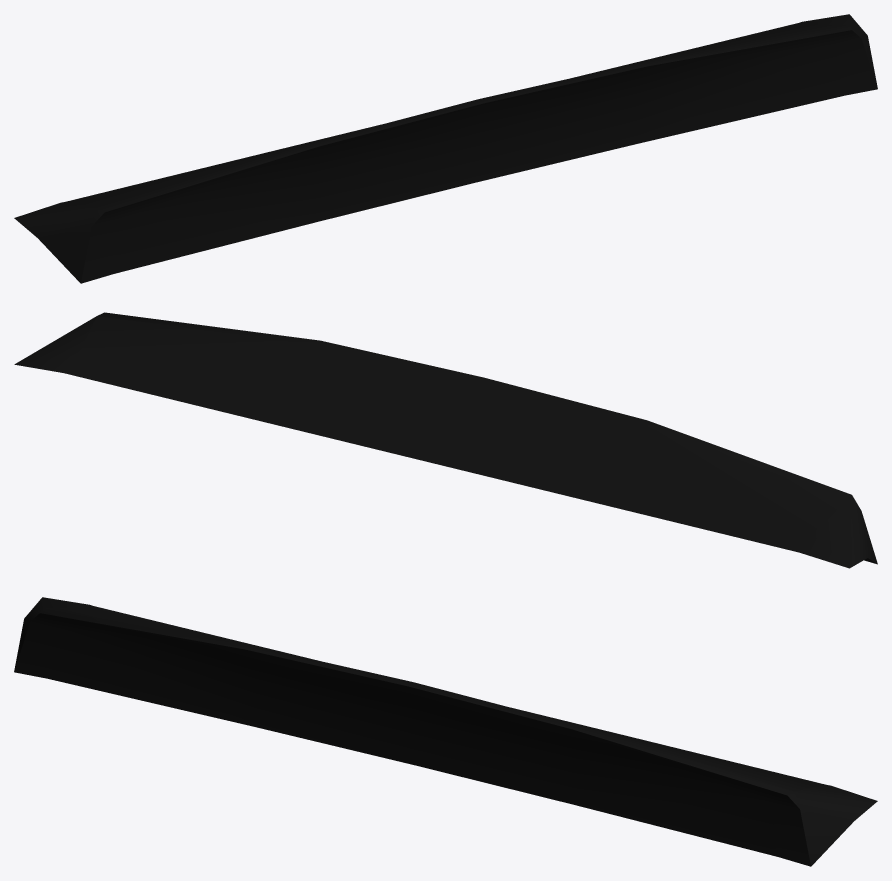
The model's file is GTO_Spoiler04.fbx.
The picture shows the model from 3 angles, top to bottom: view 1: azimuth 30°, elevation 25°; view 2: azimuth 150°, elevation 25°; view 3: azimuth 330°, elevation 25°; orthographic projection.
Visible parts, largest first — view 1: Empty_Mesh; view 2: Empty_Mesh; view 3: Empty_Mesh.
Part boxes in pixels (bbox=[...]): Empty_Mesh: bbox=[14, 14, 877, 283]; Empty_Mesh: bbox=[14, 312, 877, 568]; Empty_Mesh: bbox=[14, 597, 877, 866].
Bounding box in the file's own units: 146 × 14.46 × 15.89.
